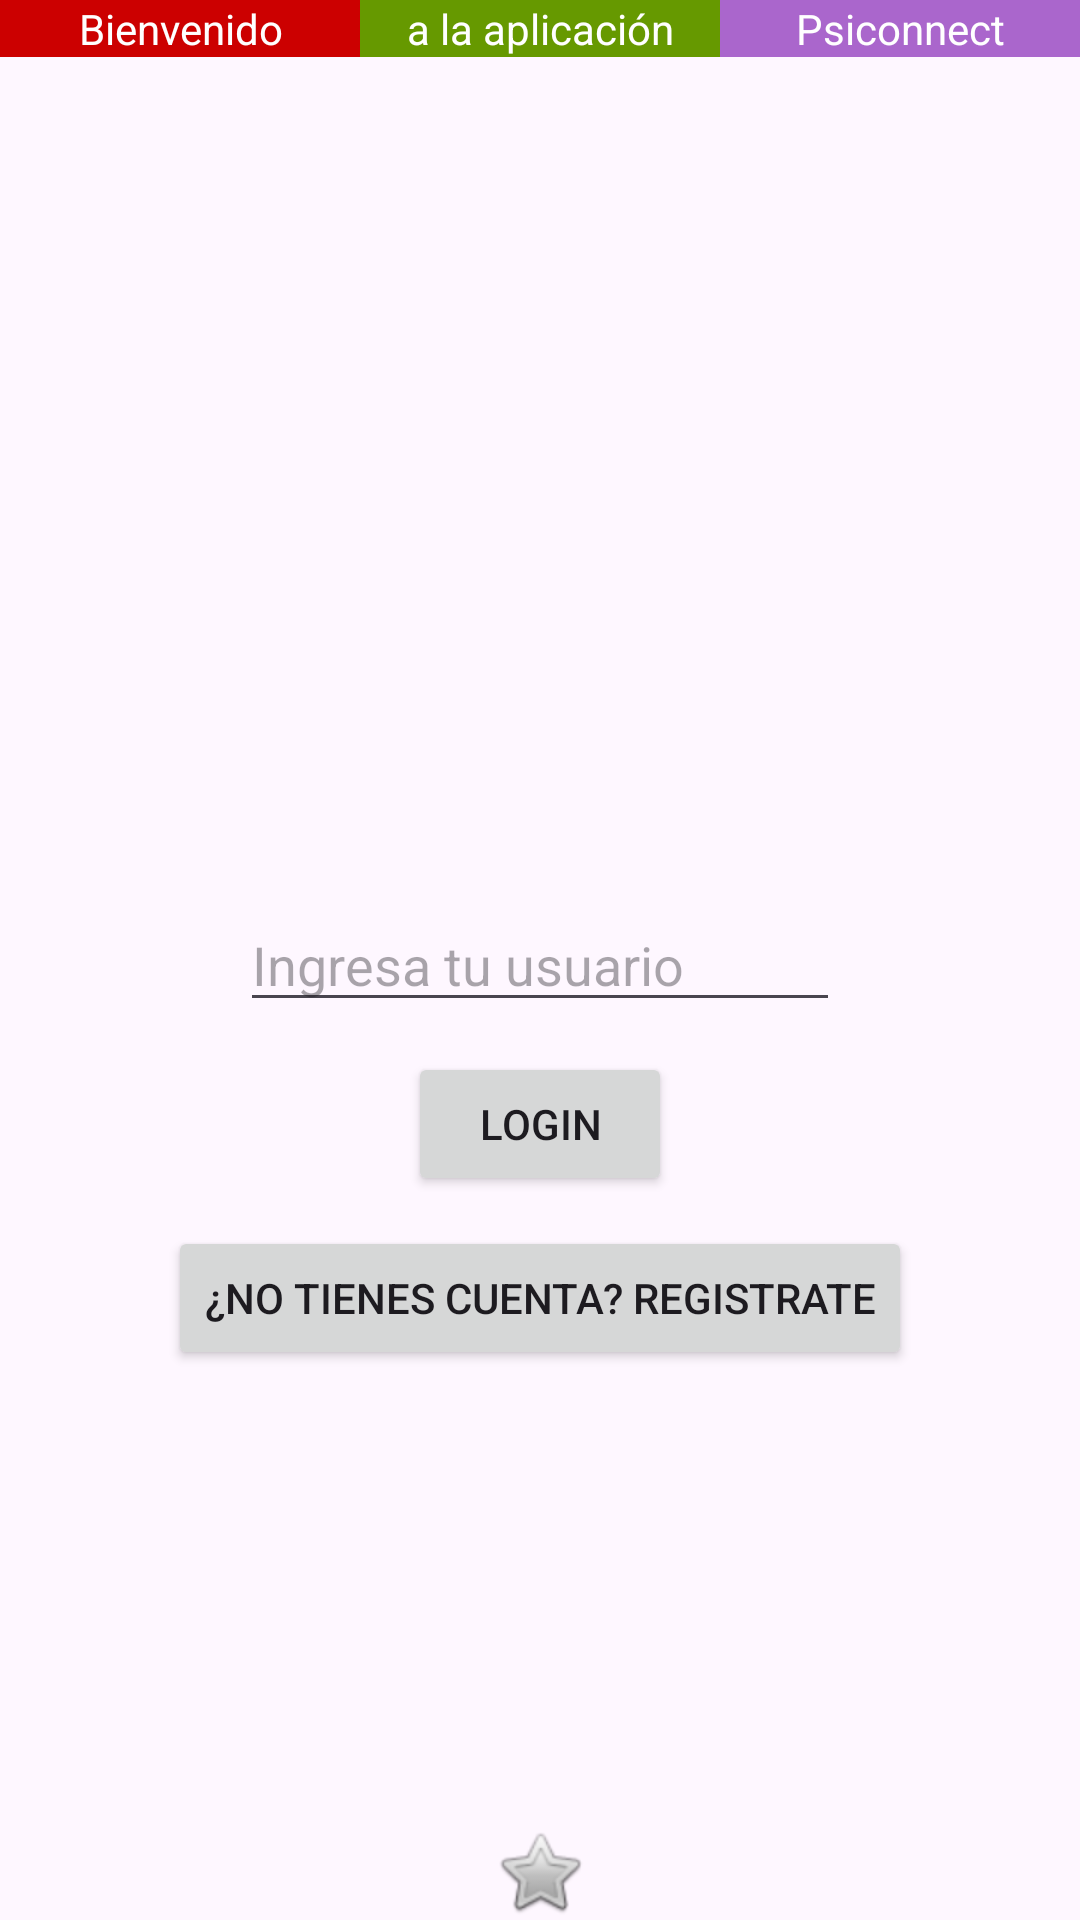

Named icons in this screenshot (1080px×1920px) and their bounding boxes, [x1=x1, y1=y1, x2=x2, y2=y2]:
star: [x1=501, y1=1834, x2=581, y2=1912]
